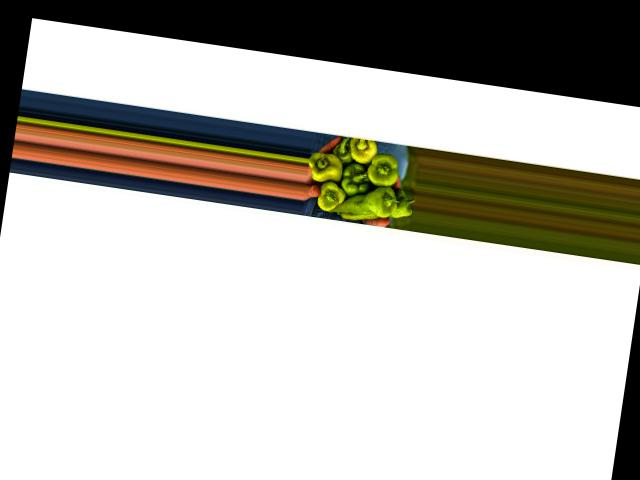bell_pepper: (307, 147, 347, 183)
